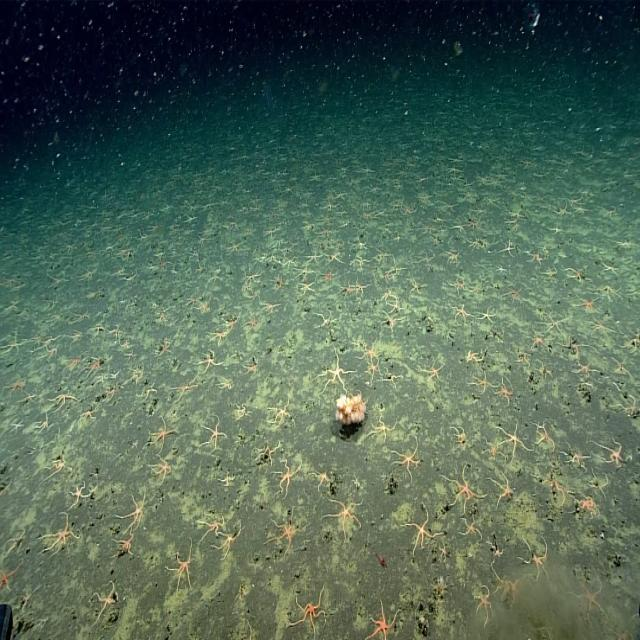brittle-stars: (309, 339, 359, 404), (260, 506, 311, 566), (437, 456, 487, 516), (34, 508, 88, 563), (381, 427, 428, 490), (398, 500, 445, 558), (318, 491, 369, 544), (286, 580, 331, 640), (564, 563, 606, 623), (107, 484, 153, 538), (358, 592, 406, 640), (494, 410, 536, 463), (516, 526, 555, 582), (86, 570, 120, 633), (163, 530, 195, 596), (268, 454, 307, 504), (212, 514, 248, 566), (193, 410, 230, 460), (525, 472, 573, 508), (361, 407, 403, 447), (489, 565, 524, 610), (262, 390, 298, 433), (34, 446, 68, 491), (144, 413, 178, 456), (590, 437, 632, 471), (0, 519, 33, 562), (193, 507, 227, 548), (166, 372, 201, 411), (529, 415, 562, 456), (108, 524, 140, 566), (459, 367, 501, 399), (485, 470, 518, 510), (564, 491, 604, 522), (146, 447, 174, 491), (608, 390, 640, 428), (471, 582, 496, 630), (0, 324, 26, 369), (418, 352, 450, 388), (44, 384, 80, 415), (490, 372, 521, 408), (534, 310, 570, 341), (13, 578, 42, 616), (458, 507, 484, 548), (250, 436, 282, 468), (376, 364, 408, 396), (567, 357, 606, 383), (602, 352, 638, 380), (580, 316, 620, 341), (65, 474, 96, 506), (570, 293, 603, 323), (456, 341, 494, 367), (585, 466, 615, 498), (617, 321, 640, 362), (520, 330, 556, 356), (192, 346, 224, 375), (0, 558, 24, 596), (560, 260, 590, 290), (29, 329, 61, 357), (311, 302, 339, 334), (228, 392, 254, 426), (554, 335, 594, 357), (374, 313, 409, 338), (559, 449, 593, 474), (0, 371, 26, 403), (306, 462, 333, 492), (33, 404, 55, 440), (77, 354, 103, 384), (484, 539, 509, 570), (356, 331, 378, 366), (0, 464, 20, 502), (493, 232, 522, 258), (462, 230, 491, 256), (474, 303, 504, 328), (499, 283, 529, 308), (76, 401, 102, 429), (480, 437, 505, 466), (451, 301, 476, 330), (72, 262, 102, 286), (404, 274, 431, 300), (38, 341, 62, 370), (594, 280, 624, 303), (152, 334, 174, 365), (93, 384, 119, 410), (351, 273, 375, 301), (448, 419, 467, 453), (413, 248, 438, 273), (523, 243, 548, 268), (238, 354, 262, 380), (532, 360, 556, 386), (62, 349, 82, 380), (216, 466, 238, 494), (506, 350, 534, 372), (7, 414, 26, 446), (610, 620, 640, 640), (123, 361, 146, 387), (371, 242, 394, 268), (595, 257, 622, 279), (363, 358, 384, 386), (388, 256, 411, 281), (58, 327, 85, 348), (467, 275, 490, 299), (268, 271, 289, 297), (446, 276, 473, 296), (231, 576, 250, 604), (67, 304, 90, 327), (442, 245, 466, 267), (142, 374, 159, 404), (201, 331, 231, 348), (16, 388, 38, 411), (40, 307, 63, 329), (296, 277, 317, 301), (242, 315, 262, 340), (89, 316, 108, 342), (290, 264, 317, 282), (225, 236, 247, 258), (105, 320, 126, 343), (488, 258, 512, 278), (43, 270, 68, 289), (535, 263, 560, 282), (321, 249, 347, 267), (338, 277, 356, 303), (385, 296, 407, 317), (223, 308, 242, 332), (258, 299, 282, 318), (92, 365, 110, 390), (212, 374, 235, 393), (239, 266, 263, 284), (436, 542, 454, 566), (204, 267, 224, 288), (349, 252, 370, 272), (322, 266, 341, 288), (31, 612, 49, 634), (122, 266, 138, 290), (194, 297, 214, 316), (379, 283, 398, 303), (304, 248, 327, 264), (351, 234, 369, 254), (153, 306, 169, 328), (314, 223, 336, 239), (109, 262, 125, 282), (242, 609, 252, 640), (283, 253, 299, 271), (122, 346, 137, 365), (181, 292, 198, 308), (350, 475, 366, 492), (109, 366, 122, 384), (240, 280, 253, 296), (379, 269, 392, 285), (268, 248, 280, 265), (119, 337, 132, 352), (331, 235, 343, 251)
